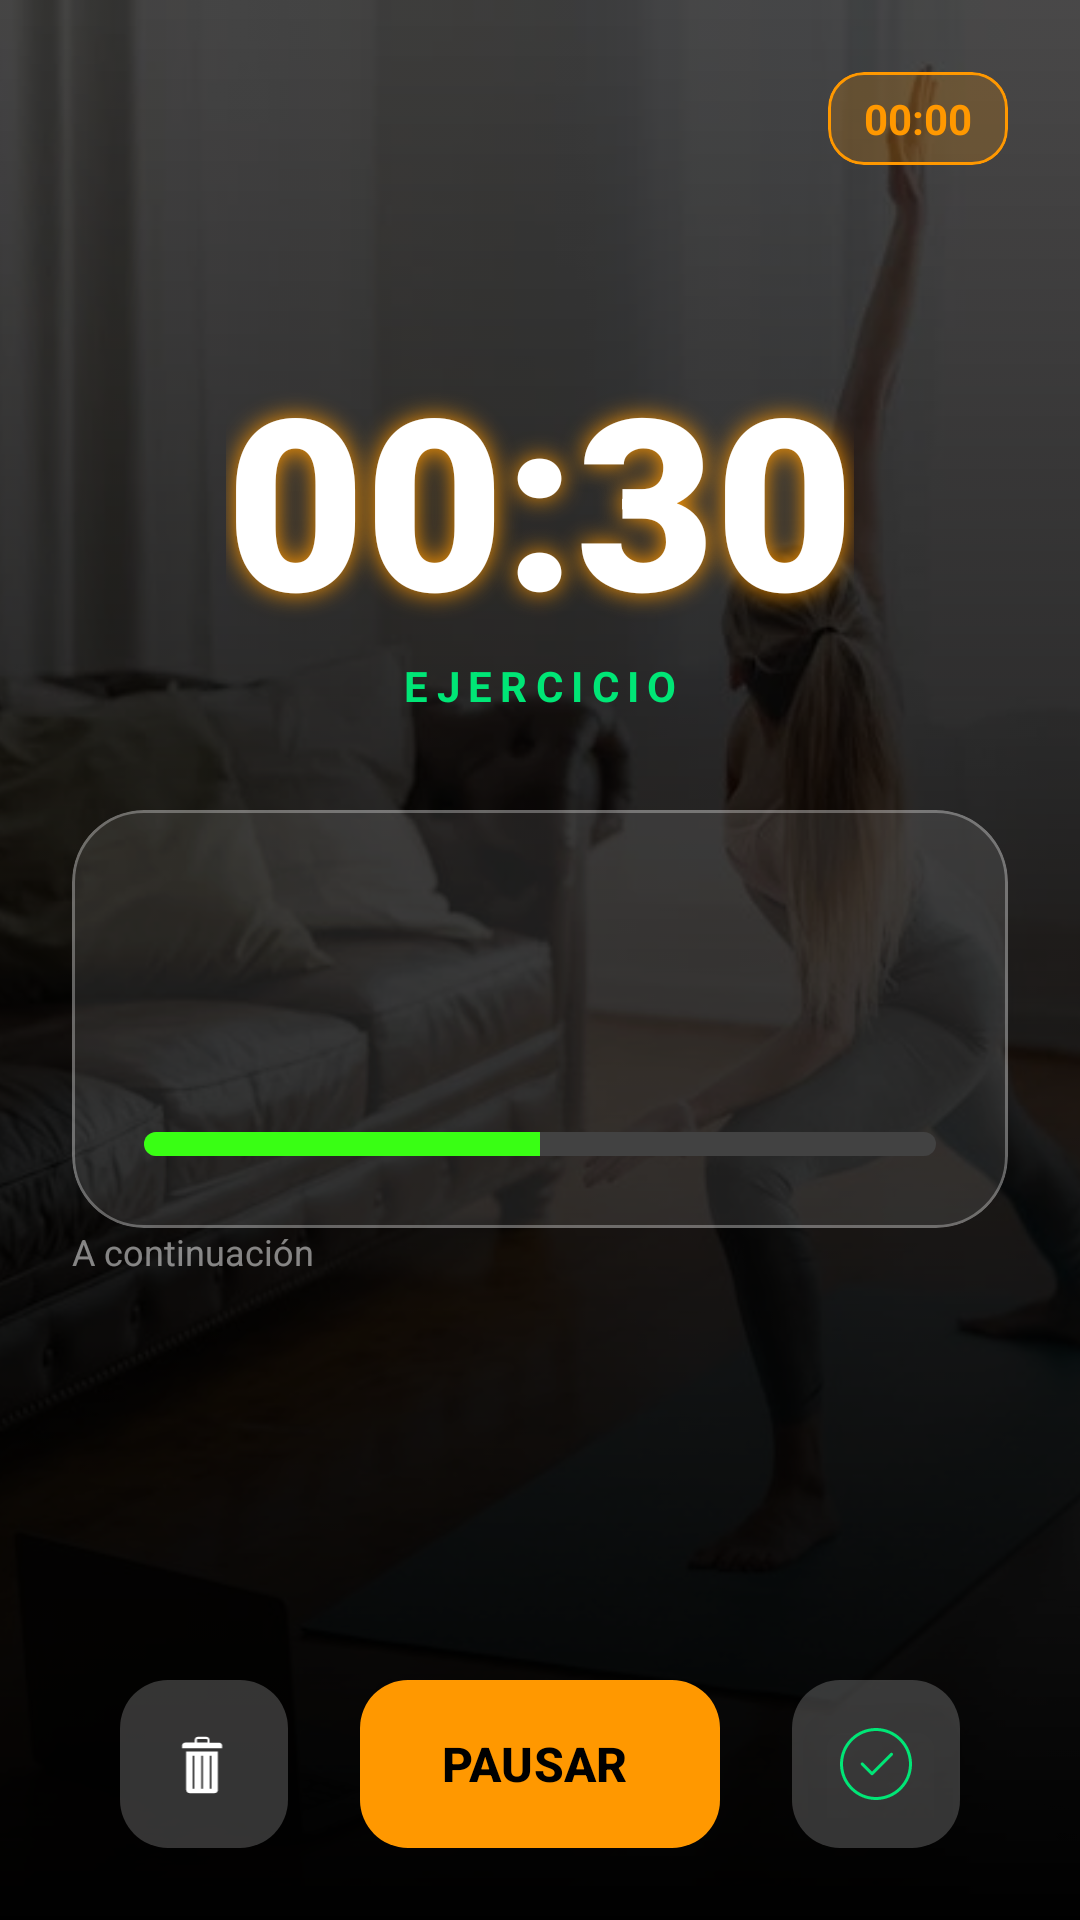

Icon click points for this 1080px×1920px phone screenshot, format (x,y):
check circle: (876,1764)
delete: (204,1764)
